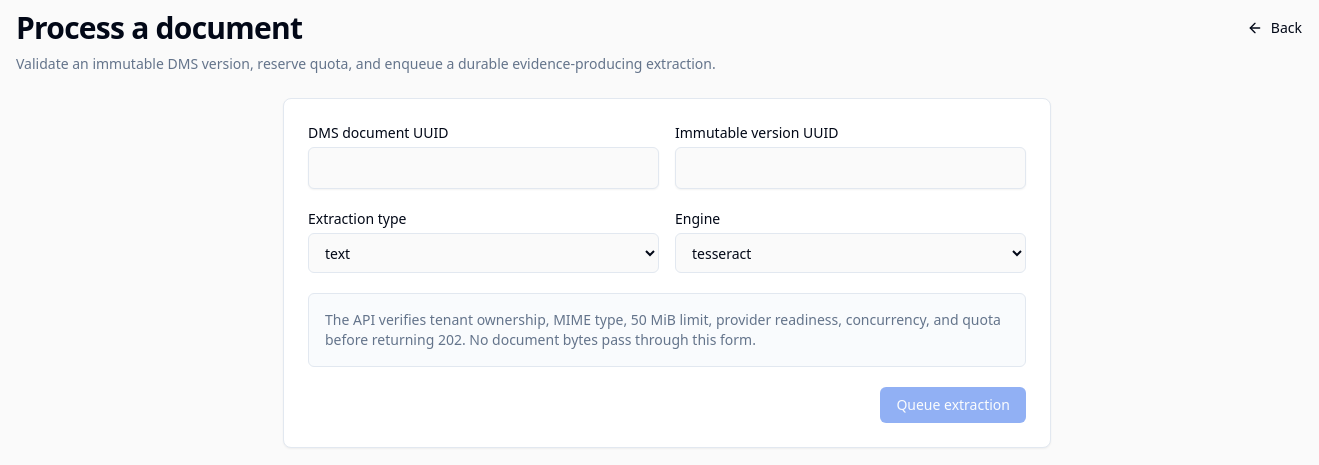
Test case: document intelligence page workflows › submits extraction references with a deterministic idempotency key and pending state
Type "document-1" into the field labelled "DMS document UUID" at (484, 168), box [308,147,659,189]
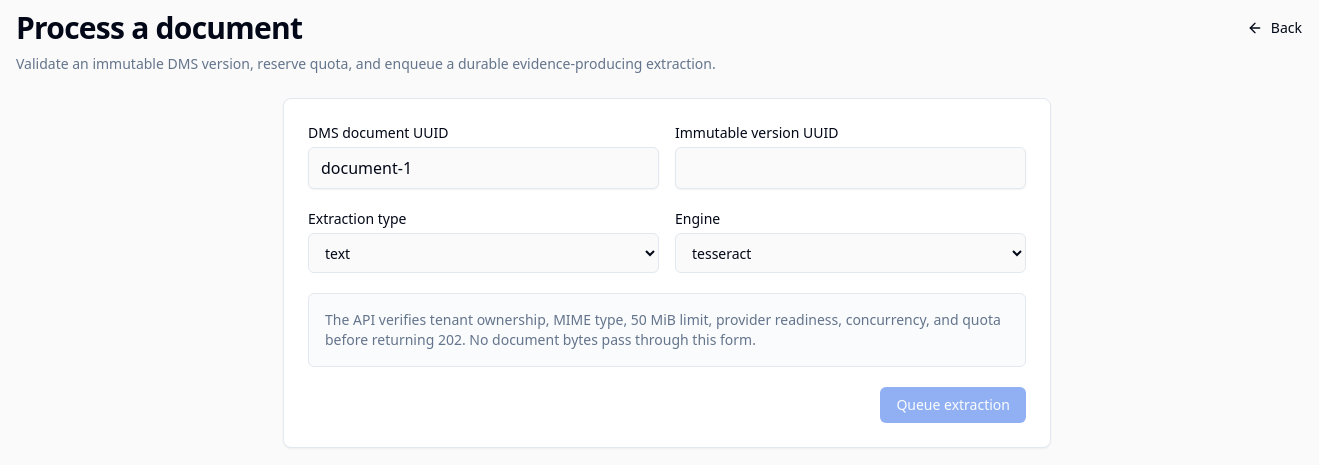
Type "version-1" into the field labelled "Immutable version UUID" at (850, 168), box [675,147,1026,189]
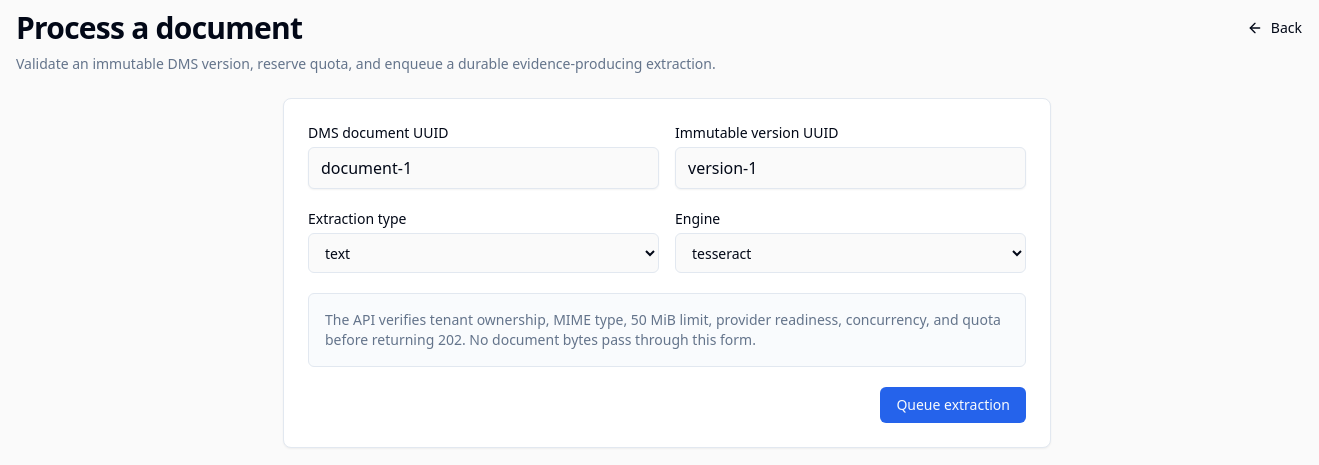
Click the button "Queue extraction" at (953, 405), box [880,387,1026,423]
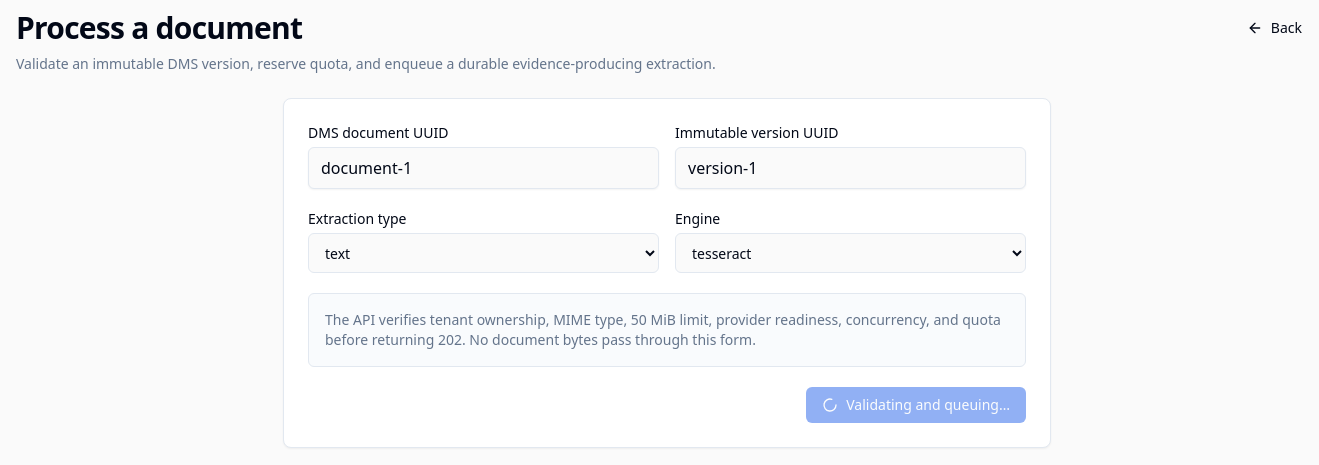
Check: the button "Validating and queuing…" is disabled, box [806,387,1026,423]
Check: the icon with class "animate-spin" is shown, box [822,397,838,413]
